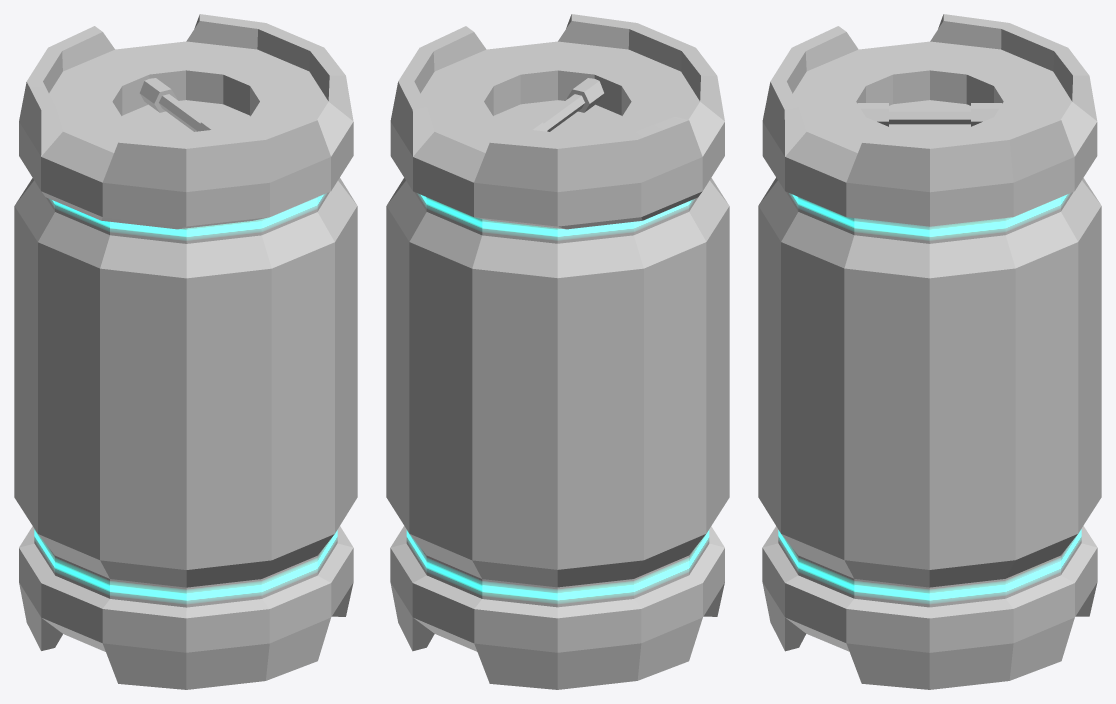
Rendered from entity343722.glb.
3 renders of one model, left to right at view 1: azimuth 30°, elevation 25°; view 2: azimuth 150°, elevation 25°; view 3: azimuth 270°, elevation 25°, orthographic.
Parts seen in each view (by area): view 1: node_SM_Prop_Crate_08 (2), node_SM_Prop_Crate_08_Lid_01; view 2: node_SM_Prop_Crate_08 (2), node_SM_Prop_Crate_08_Lid_01; view 3: node_SM_Prop_Crate_08 (2), node_SM_Prop_Crate_08_Lid_01.
Part boxes in pixels (bbox=[...]): node_SM_Prop_Crate_08 (2): bbox=[14, 178, 357, 689]; node_SM_Prop_Crate_08_Lid_01: bbox=[19, 14, 353, 229]; node_SM_Prop_Crate_08 (2): bbox=[386, 178, 729, 689]; node_SM_Prop_Crate_08_Lid_01: bbox=[390, 14, 724, 229]; node_SM_Prop_Crate_08 (2): bbox=[758, 177, 1101, 689]; node_SM_Prop_Crate_08_Lid_01: bbox=[762, 14, 1097, 226].
Size of the model in its own units: 1.15 by 2 by 1.15.
